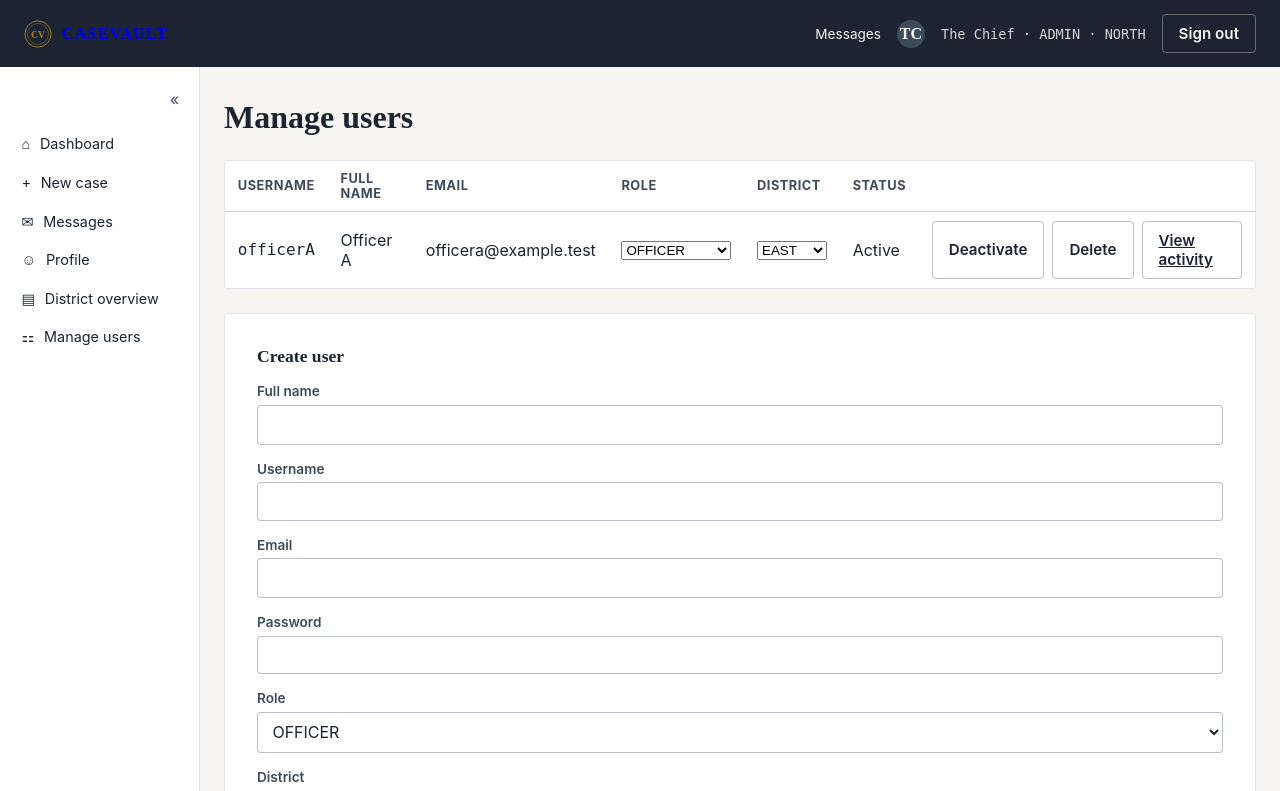
it: ManageUsersPage › deactivates a user
The image size is (1280, 791).
Expected: the text "officerA" is shown, [225,211,328,288]
Click the button with aria-label "deactivate officera".
click(988, 250)  # box [932,221,1044,279]
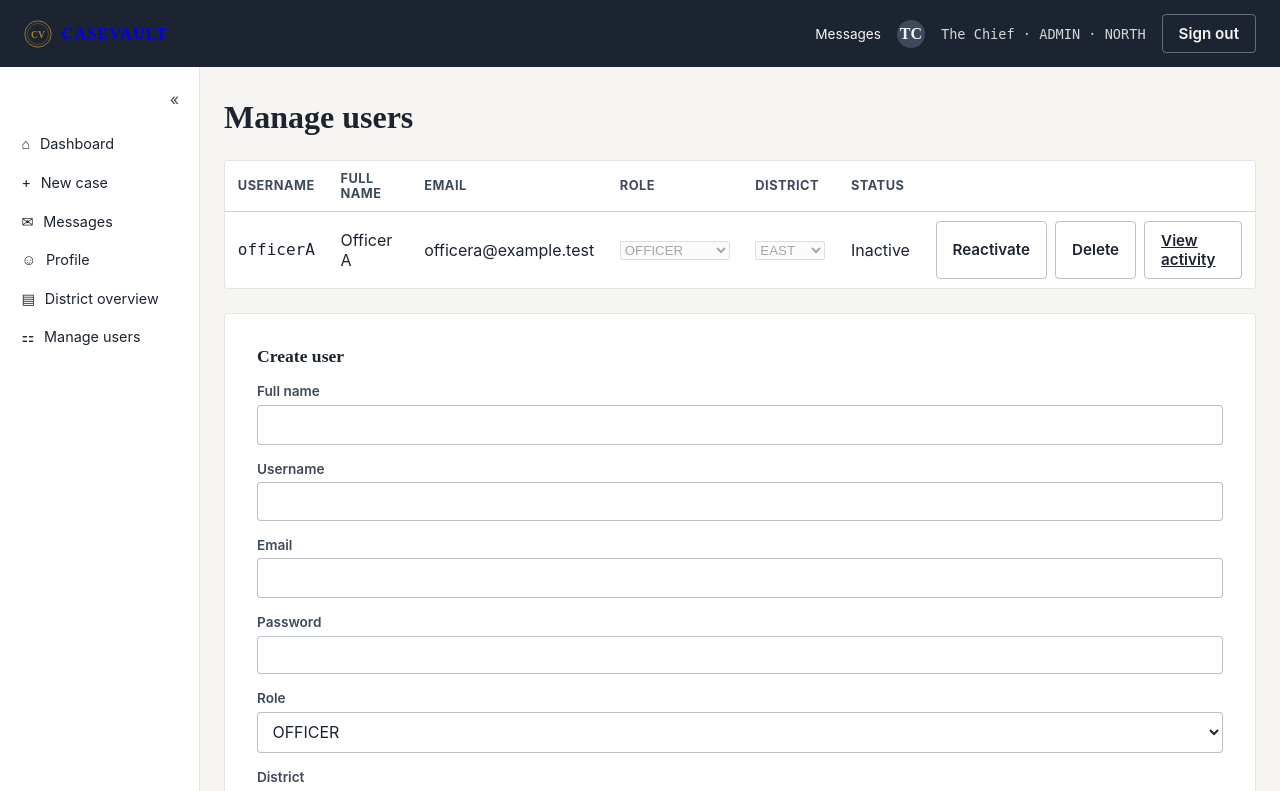
Expected: the text "Inactive" is shown, [838,211,923,288]
